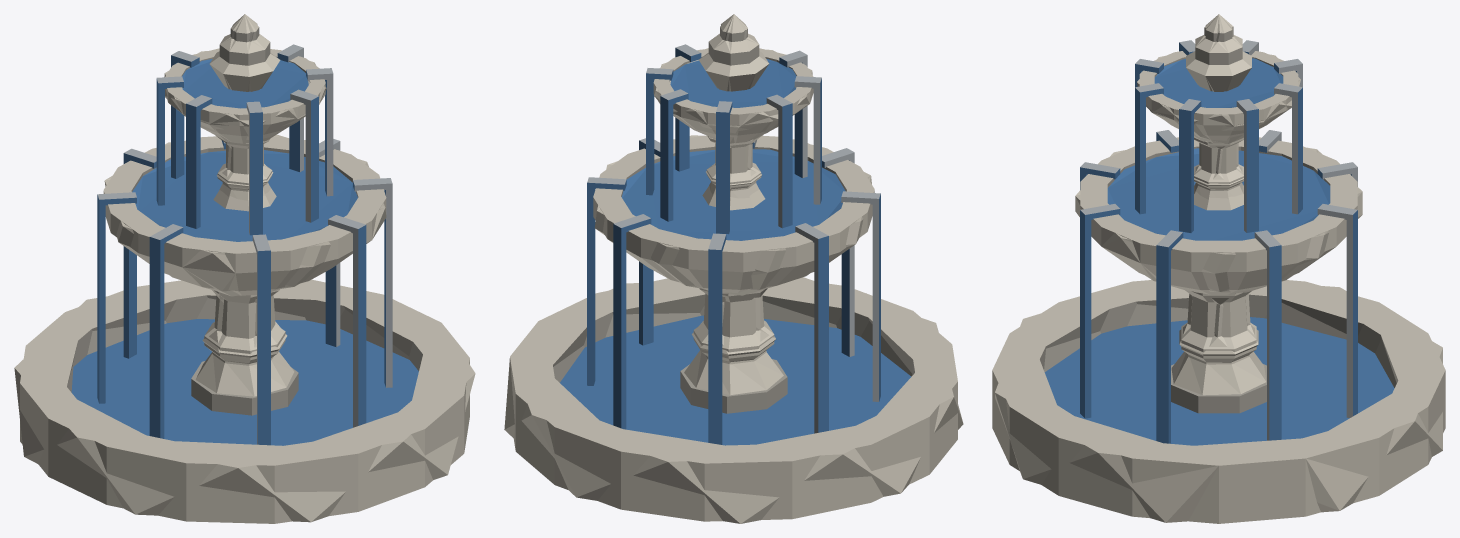
The model's file is FMS_Garden_Fountain_Tiered.fbx.
3 views of the same model, side by side, from view 1: azimuth 30°, elevation 25°; view 2: azimuth 150°, elevation 25°; view 3: azimuth 270°, elevation 25° (orthographic).
Visible parts, largest first — view 1: FMS_Garden_Fountain_Tiered_Basin, FMS_Garden_Fountain_Tiered_Basin_Low1, FMS_Garden_Fountain_Tiered_Lower, FMS_Garden_Fountain_Tiered_Lower_Low1, FMS_Garden_Fountain_Tiered_Upper, FMS_Garden_Fountain_Tiered_Upper_Low1, FMS_Garden_Fountain_Tiered_Stream5, FMS_Garden_Fountain_Tiered_Stream7, FMS_Garden_Fountain_Tiered_Stream6, FMS_Garden_Fountain_Tiered_Stream4, FMS_Garden_Fountain_Tiered_Stream8, FMS_Garden_Fountain_Tiered_Stream3 (+1 smaller); view 2: FMS_Garden_Fountain_Tiered_Basin_Low1, FMS_Garden_Fountain_Tiered_Basin, FMS_Garden_Fountain_Tiered_Lower, FMS_Garden_Fountain_Tiered_Lower_Low1, FMS_Garden_Fountain_Tiered_Upper, FMS_Garden_Fountain_Tiered_Upper_Low1, FMS_Garden_Fountain_Tiered_Stream4, FMS_Garden_Fountain_Tiered_Stream2, FMS_Garden_Fountain_Tiered_Stream3, FMS_Garden_Fountain_Tiered_Stream5, FMS_Garden_Fountain_Tiered_Stream1, FMS_Garden_Fountain_Tiered_Stream6 (+1 smaller); view 3: FMS_Garden_Fountain_Tiered_Basin_Low1, FMS_Garden_Fountain_Tiered_Basin, FMS_Garden_Fountain_Tiered_Lower, FMS_Garden_Fountain_Tiered_Lower_Low1, FMS_Garden_Fountain_Tiered_Upper, FMS_Garden_Fountain_Tiered_Upper_Low1, FMS_Garden_Fountain_Tiered_Stream8, FMS_Garden_Fountain_Tiered_Stream1, FMS_Garden_Fountain_Tiered_Stream7, FMS_Garden_Fountain_Tiered_Stream2, FMS_Garden_Fountain_Tiered_Stream6, FMS_Garden_Fountain_Tiered_Stream3 (+2 smaller).
Part boxes in pixels (box(x1,y1,x2,y2)): FMS_Garden_Fountain_Tiered_Basin: box(20, 279, 469, 523); FMS_Garden_Fountain_Tiered_Basin_Low1: box(14, 283, 475, 522); FMS_Garden_Fountain_Tiered_Lower: box(103, 136, 386, 415); FMS_Garden_Fountain_Tiered_Lower_Low1: box(104, 134, 386, 396); FMS_Garden_Fountain_Tiered_Upper: box(165, 14, 325, 211); FMS_Garden_Fountain_Tiered_Upper_Low1: box(164, 15, 326, 200); FMS_Garden_Fountain_Tiered_Stream5: box(149, 95, 212, 438); FMS_Garden_Fountain_Tiered_Stream7: box(290, 89, 366, 427); FMS_Garden_Fountain_Tiered_Stream6: box(246, 101, 270, 445); FMS_Garden_Fountain_Tiered_Stream4: box(97, 76, 183, 403); FMS_Garden_Fountain_Tiered_Stream8: box(306, 68, 392, 387); FMS_Garden_Fountain_Tiered_Stream3: box(123, 51, 199, 358); FMS_Garden_Fountain_Tiered_Basin_Low1: box(504, 277, 963, 523); FMS_Garden_Fountain_Tiered_Basin: box(510, 278, 957, 521); FMS_Garden_Fountain_Tiered_Lower: box(593, 135, 874, 413); FMS_Garden_Fountain_Tiered_Lower_Low1: box(594, 135, 871, 395); FMS_Garden_Fountain_Tiered_Upper: box(653, 14, 813, 210); FMS_Garden_Fountain_Tiered_Upper_Low1: box(654, 15, 813, 198); FMS_Garden_Fountain_Tiered_Stream4: box(766, 94, 828, 433); FMS_Garden_Fountain_Tiered_Stream2: box(613, 89, 688, 429); FMS_Garden_Fountain_Tiered_Stream3: box(708, 101, 732, 444); FMS_Garden_Fountain_Tiered_Stream5: box(794, 76, 880, 401); FMS_Garden_Fountain_Tiered_Stream1: box(587, 68, 673, 385); FMS_Garden_Fountain_Tiered_Stream6: box(779, 50, 854, 356); FMS_Garden_Fountain_Tiered_Basin_Low1: box(995, 279, 1442, 522); FMS_Garden_Fountain_Tiered_Basin: box(992, 280, 1445, 523); FMS_Garden_Fountain_Tiered_Lower: box(1080, 137, 1357, 413); FMS_Garden_Fountain_Tiered_Lower_Low1: box(1075, 147, 1362, 395); FMS_Garden_Fountain_Tiered_Upper: box(1139, 14, 1298, 210); FMS_Garden_Fountain_Tiered_Upper_Low1: box(1137, 14, 1300, 199); FMS_Garden_Fountain_Tiered_Stream8: box(1156, 99, 1201, 443); FMS_Garden_Fountain_Tiered_Stream1: box(1236, 99, 1281, 440); FMS_Garden_Fountain_Tiered_Stream7: box(1080, 83, 1163, 418); FMS_Garden_Fountain_Tiered_Stream2: box(1274, 83, 1357, 417); FMS_Garden_Fountain_Tiered_Stream6: box(1080, 59, 1163, 189); FMS_Garden_Fountain_Tiered_Stream3: box(1274, 59, 1357, 186).
Size of the model in its own units: 2.4 by 2.42 by 2.4.
1 material, 1 textured.
